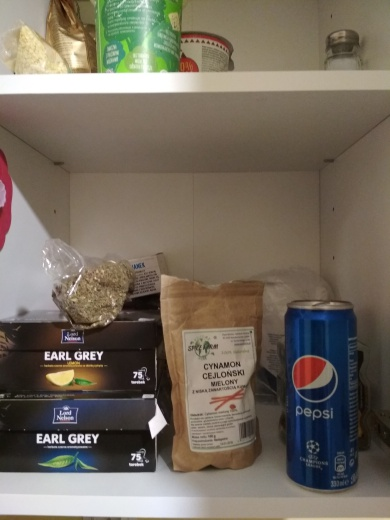pepsi: (278, 291, 363, 501)
